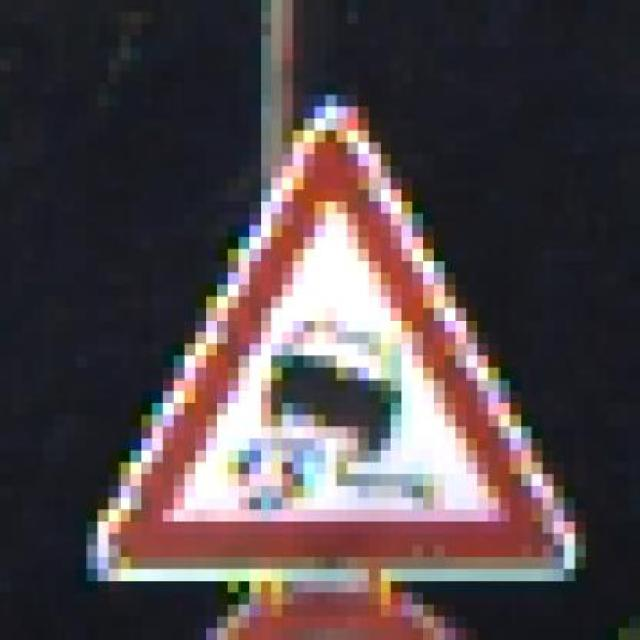Slippery Road Ahead: (86, 82, 586, 593)
